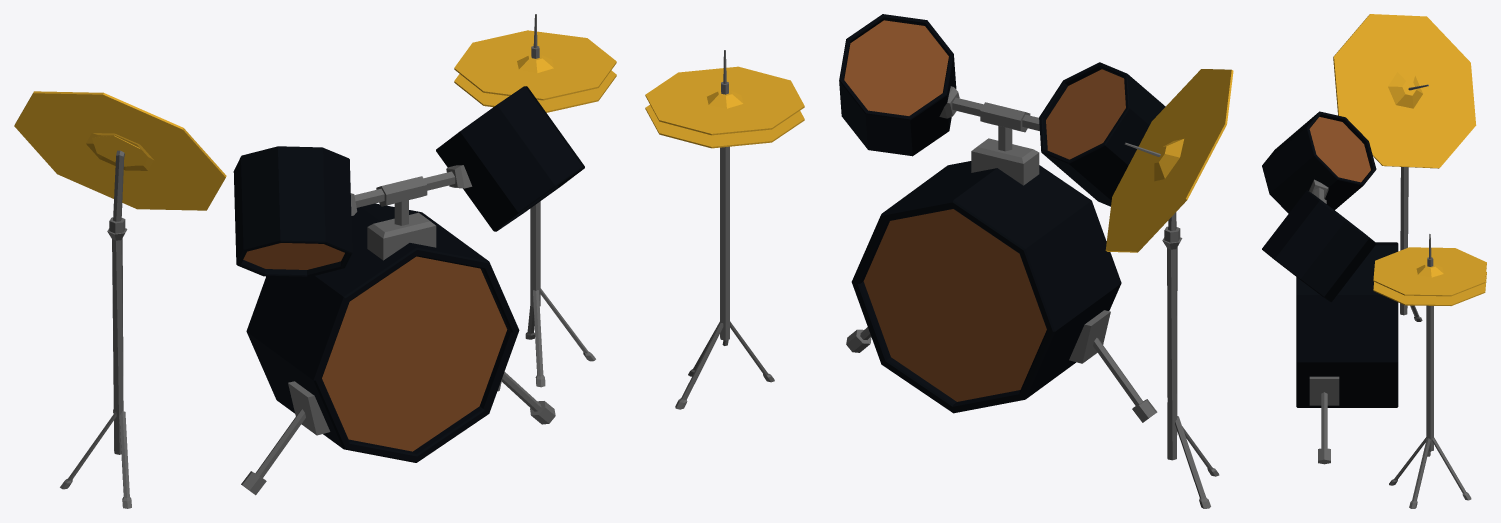
File: drums.glb
3 views of the same model, side by side, from view 1: azimuth 30°, elevation 25°; view 2: azimuth 150°, elevation 25°; view 3: azimuth 270°, elevation 25° (orthographic). The views are drawn at different scales.
Visible parts, largest first — view 1: DrumSet1; view 2: DrumSet1; view 3: DrumSet1.
Part boxes in pixels (x1=…): DrumSet1: x1=14, y1=14, x2=616, y2=508; DrumSet1: x1=645, y1=14, x2=1233, y2=508; DrumSet1: x1=1262, y1=14, x2=1486, y2=508.
Size of the model in its own units: 2.48 by 1.73 by 1.14.
